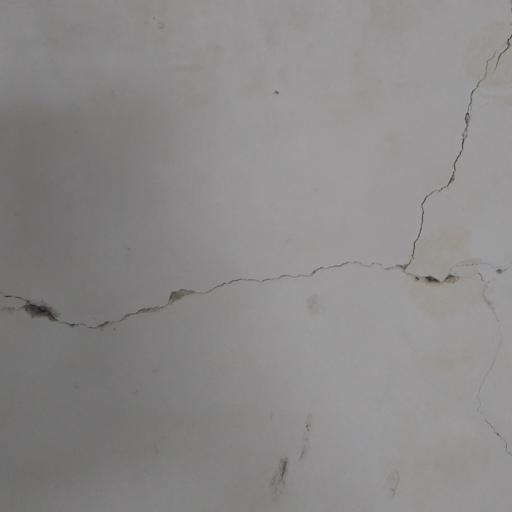major_crack: (0, 19, 512, 457)
